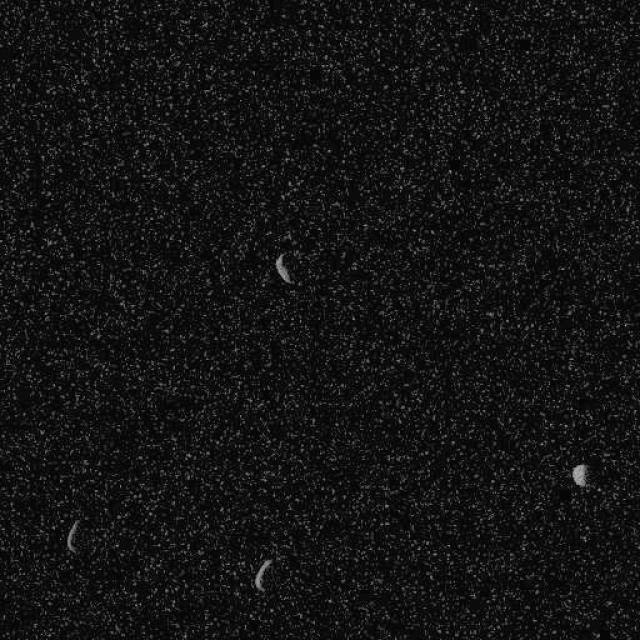D2: (252, 556, 274, 592), (65, 516, 84, 554), (274, 251, 294, 285), (570, 462, 589, 488)
